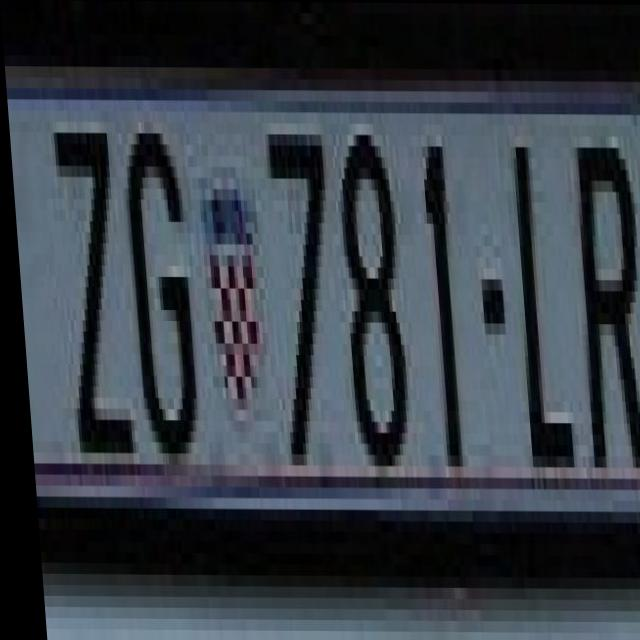1: (408, 102, 465, 477)
7: (259, 112, 342, 487)
8: (329, 112, 409, 466)
G: (121, 111, 200, 465)
L: (496, 113, 570, 467)
Z: (47, 100, 129, 442)
